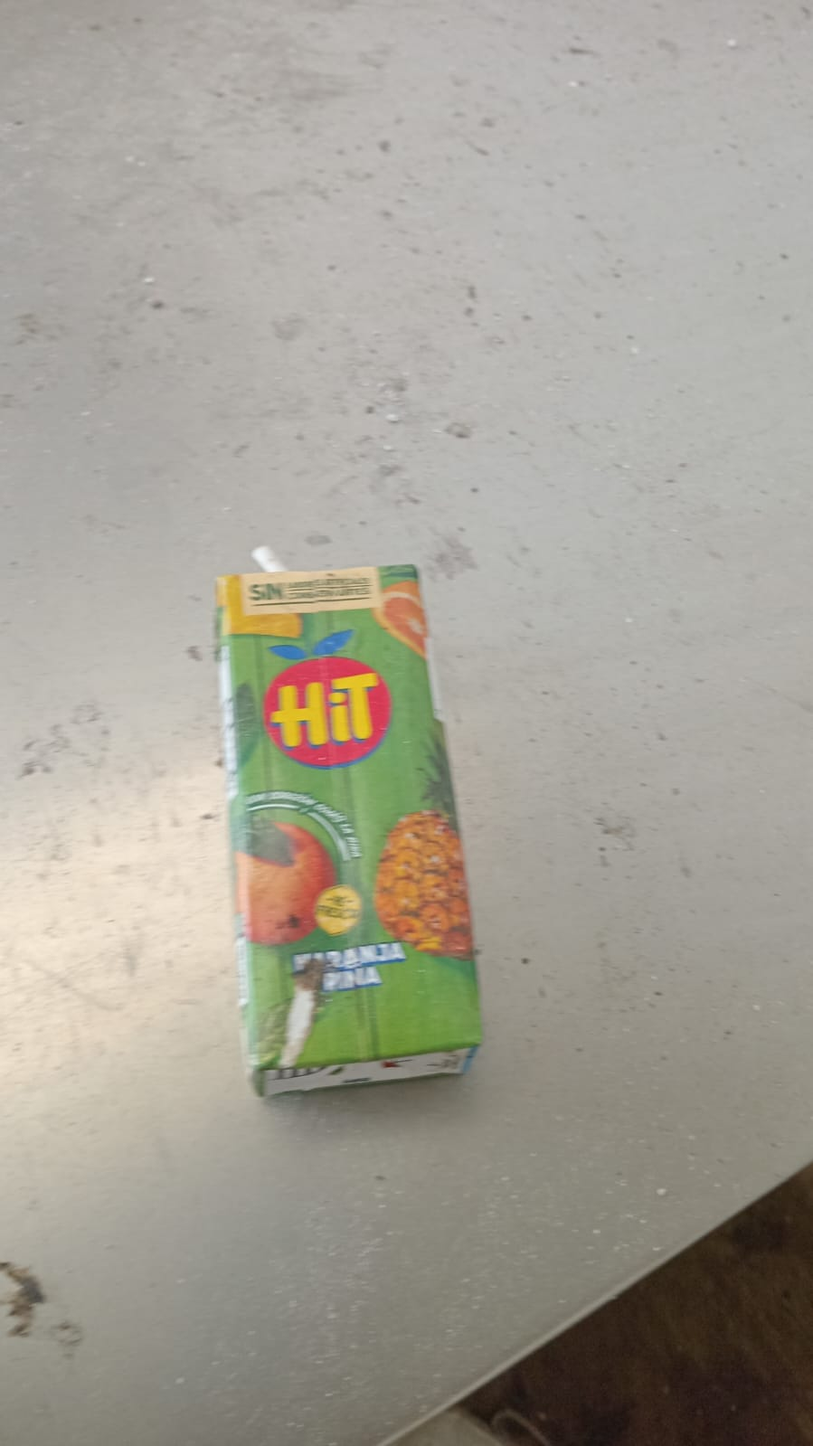Carton: (218, 563, 484, 1099)
